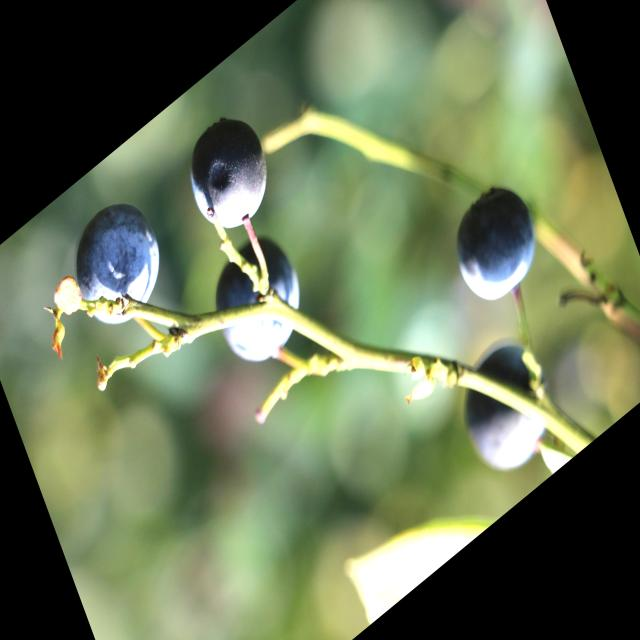blueberry: (46, 171, 186, 370), (440, 305, 576, 509), (197, 208, 327, 394), (432, 150, 556, 332), (170, 91, 291, 263)
